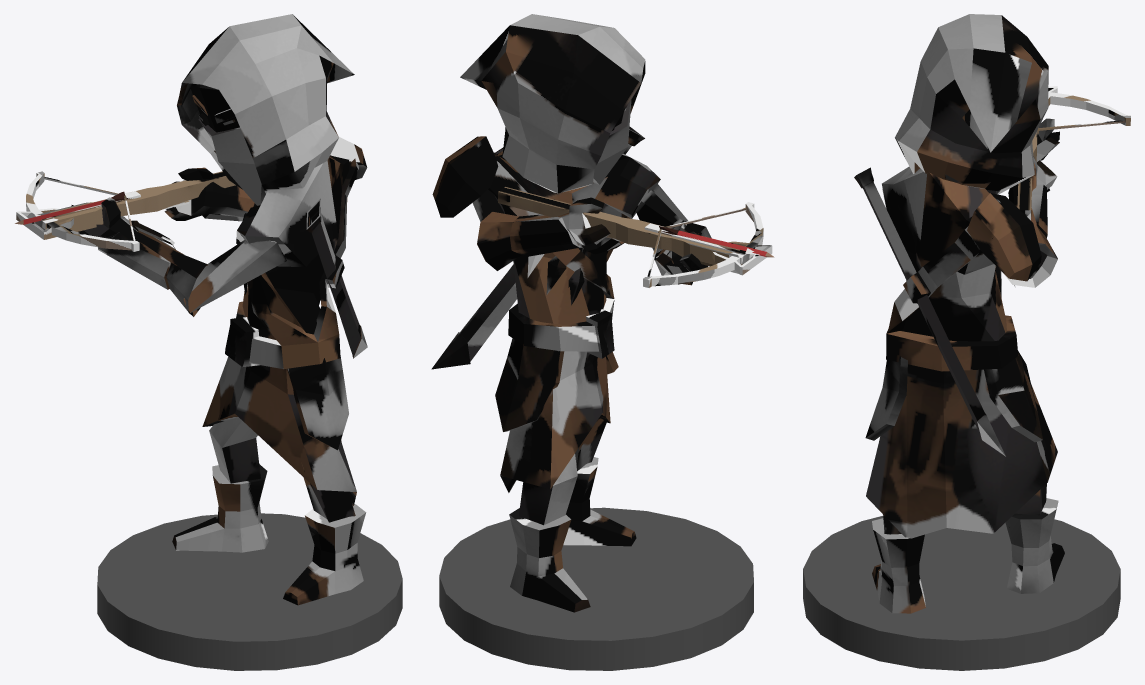
The model's file is Assassin.obj.
The picture shows the model from 3 angles, left to right: view 1: azimuth 30°, elevation 25°; view 2: azimuth 150°, elevation 25°; view 3: azimuth 270°, elevation 25°; orthographic projection. The views are drawn at different scales.
Parts seen in each view (by area): view 1: Assassin, Stand, Bow; view 2: Assassin, Stand, Bow, Bolt; view 3: Assassin, Stand, Bow.
Boxes of the visible parts, <box> form: Assassin: <box>71,14,367,605</box>; Stand: <box>97,513,402,670</box>; Bow: <box>16,171,235,251</box>; Assassin: <box>431,14,711,612</box>; Stand: <box>439,507,753,670</box>; Bow: <box>498,187,772,287</box>; Bolt: <box>659,226,774,257</box>; Assassin: <box>854,14,1064,613</box>; Stand: <box>803,516,1120,670</box>; Bow: <box>1017,86,1130,220</box>.
Size of the model in its own units: 18.92 by 29.82 by 15.06.
